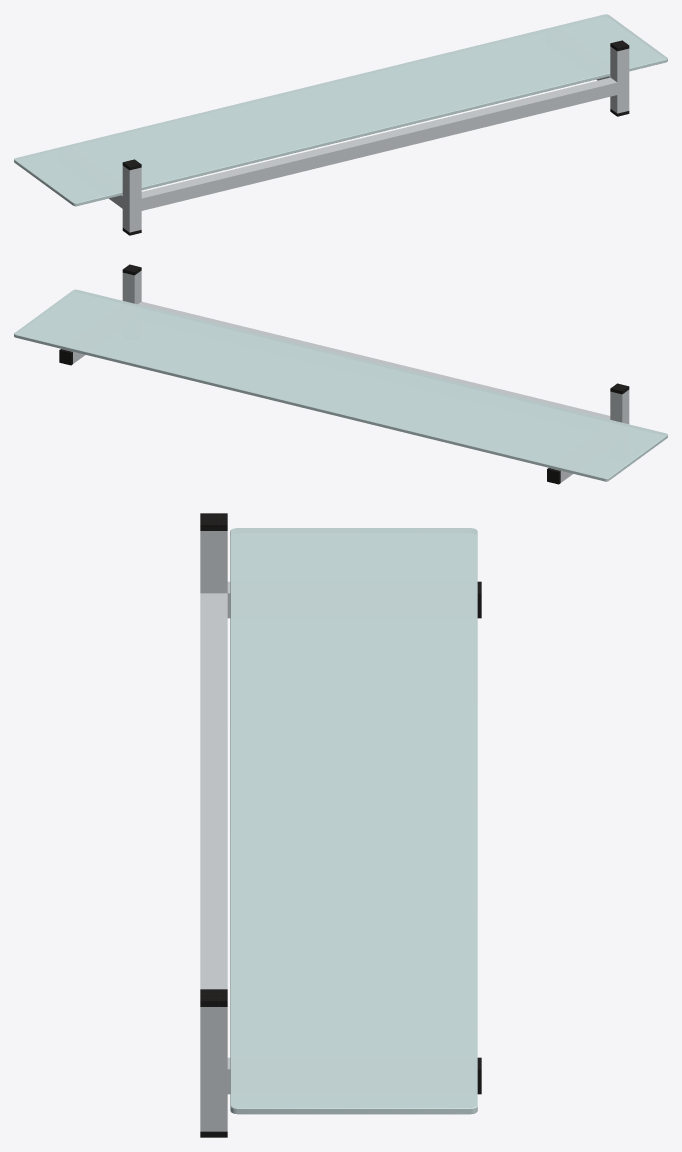
File: glass_shelf.glb
3 views of the same model, one above another, from view 1: azimuth 30°, elevation 25°; view 2: azimuth 150°, elevation 25°; view 3: azimuth 270°, elevation 25° (orthographic). The views are drawn at different scales.
Visible parts, largest first — view 1: Glass shelf.lwo; view 2: Glass shelf.lwo; view 3: Glass shelf.lwo.
Boxes of the visible parts, <box> form: Glass shelf.lwo: <box>14,14,667,235</box>; Glass shelf.lwo: <box>14,264,667,484</box>; Glass shelf.lwo: <box>200,513,481,1137</box>.
Bounding box in the file's own units: 1 × 0.11 × 0.205.
3 materials, 3 textured.
